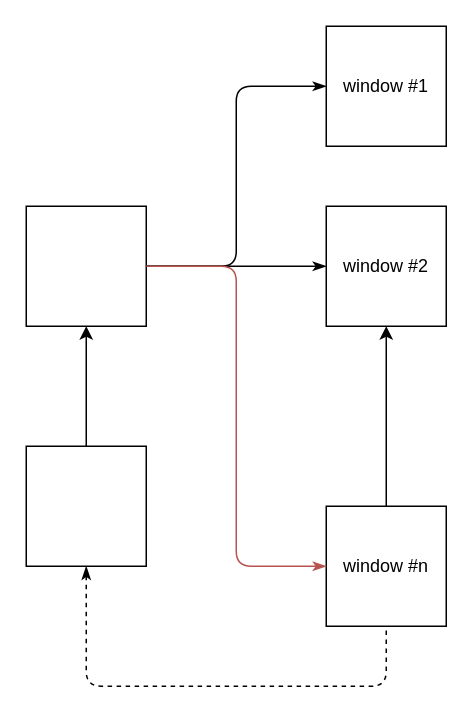
Image size: 473x725. Some labels were removed from this diagram. Each missing label, with the centre of its shape:
"events" belongs at (85,505).
"page" belongs at (85,265).
